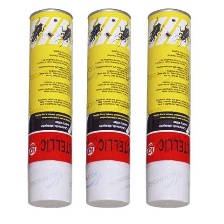aerosol_cans: (142, 7, 195, 211), (25, 7, 74, 209), (84, 5, 132, 209)
